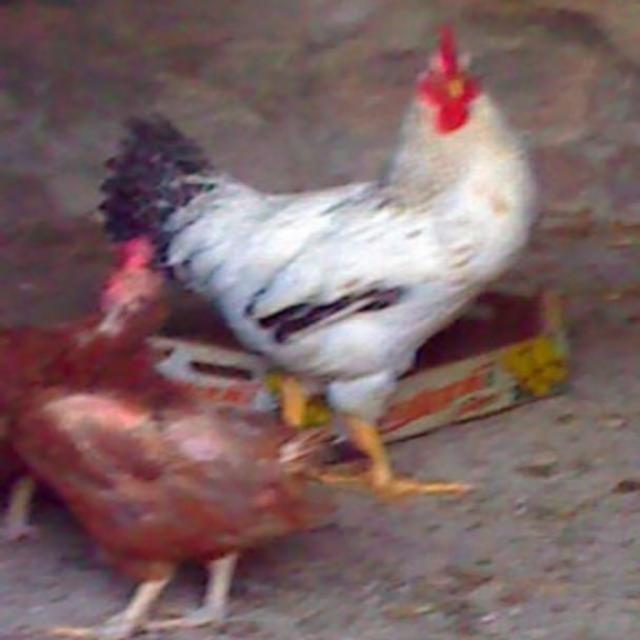Chicken: (102, 30, 534, 498), (0, 228, 363, 638)
